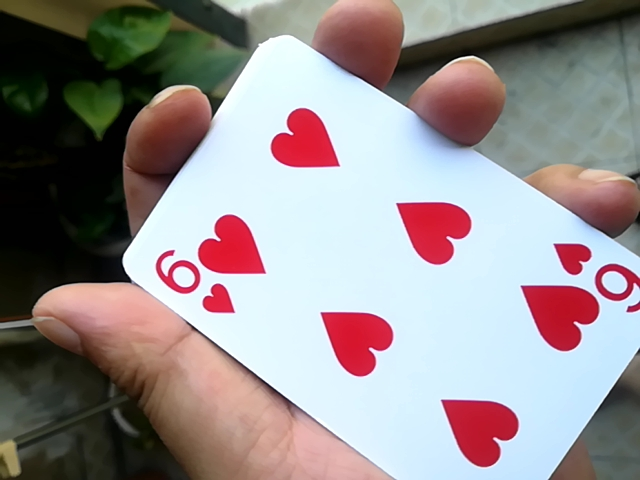hx 6: (100, 41, 638, 480)
